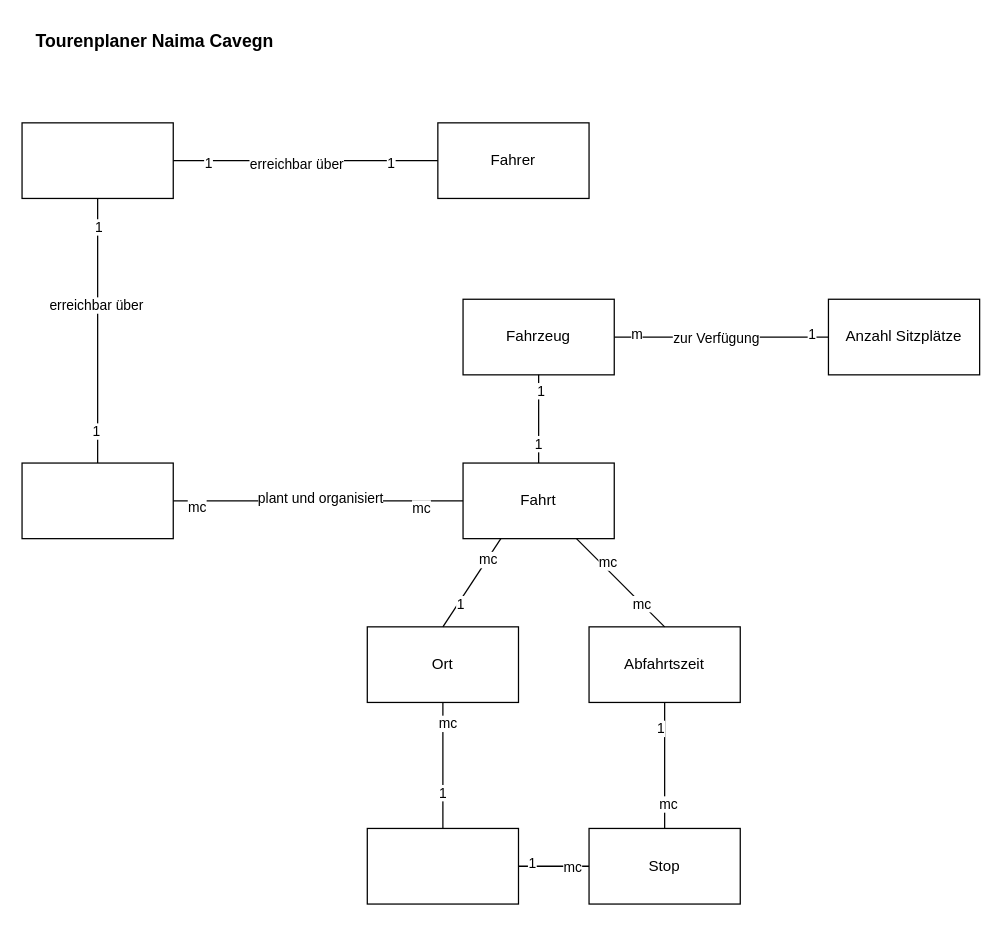
Some shapes in this 1002 by 926 pixel diagram are drawn without their labels. The shapes that lost their labels are listed below. From the top down, each one's centre as x and y in pixels, then its label:
At point 97,160: "Telefon".
At point 97,500: "Disponent".
At point 442,865: "Startzeit".
